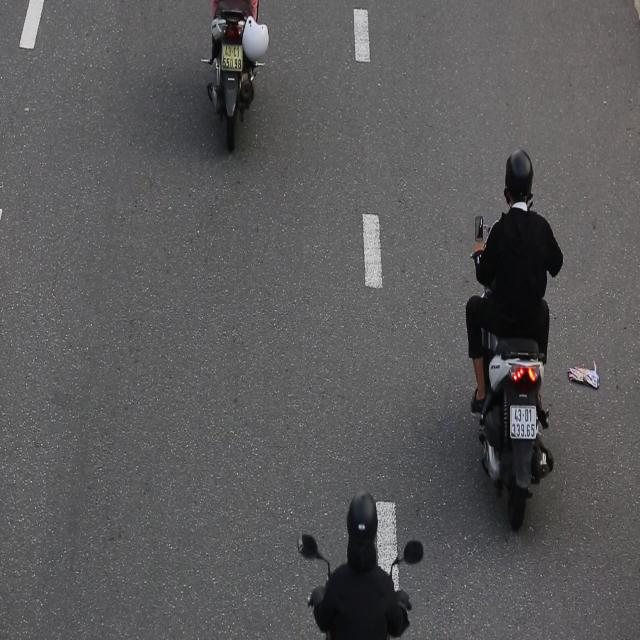motorbike: (464, 143, 574, 550)
